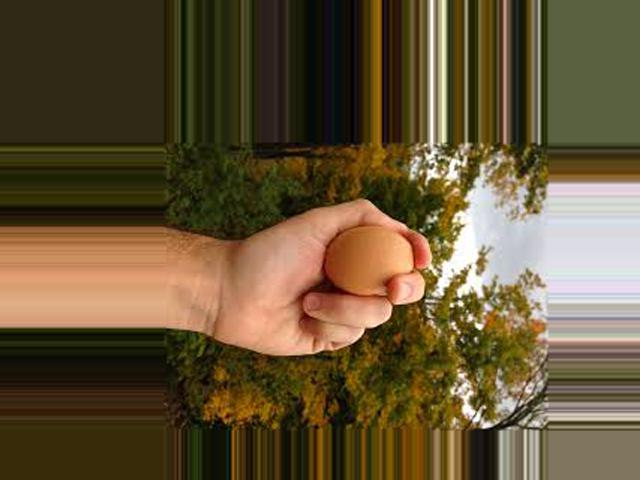egg: (324, 226, 412, 298)
